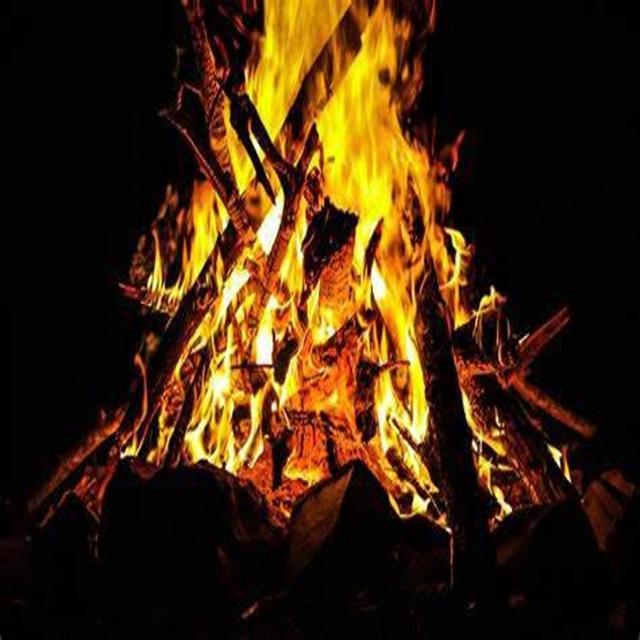Fire: (199, 216, 352, 478), (248, 5, 418, 188)
